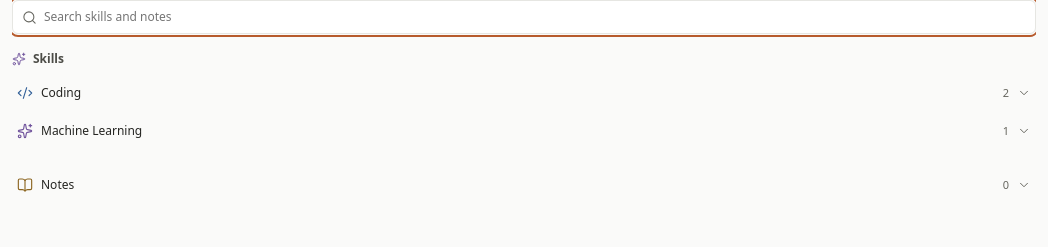
it: compact task context bundles › uses the same normalized bundle names for aliases and custom bundles
Expected: the number of buttons named "Coding skills" is 1, [12,75,1036,111]
Expected: the button with aria-label "Machine Learning skills" is shown, [12,113,1036,149]
Type "machine learning" into the field labelled "Search skills and notes" at x=535, y=17, box [44,8,1026,26]
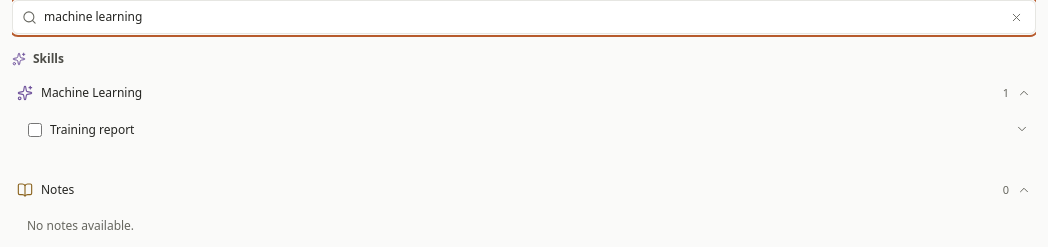
Result: the checkbox labelled "Training report" is shown at [28,123,42,137]
